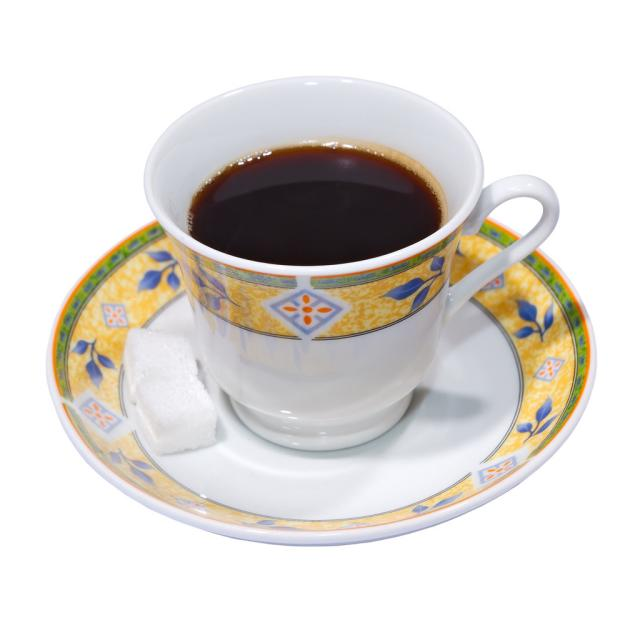Coffee: (188, 137, 444, 264)
Tea: (189, 142, 443, 266)
